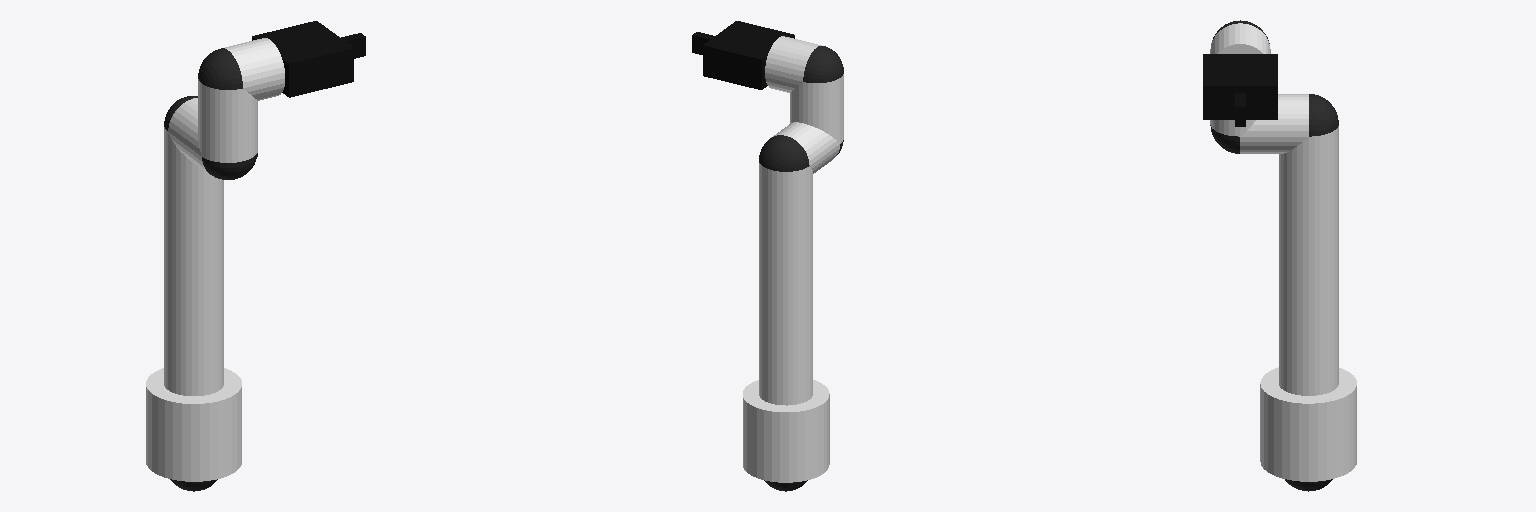
URDF robot description (mycobot_280_pi):
<?xml version="1.0"?>
<!-- GENERATED by scripts/generate_urdf.py from the DH table. Do not edit by hand. -->
<robot name="mycobot_280_pi">
  <material name="arm"><color rgba="0.92 0.92 0.92 1"/></material>
  <material name="joint"><color rgba="0.2 0.2 0.2 1"/></material>
  <material name="gripper"><color rgba="0.1 0.1 0.1 1"/></material>

  <link name="base_link">
    <visual><origin xyz="0 0 0.04"/><geometry><cylinder radius="0.045" length="0.08"/></geometry><material name="arm"/></visual>
    <collision><origin xyz="0 0 0.04"/><geometry><cylinder radius="0.045" length="0.08"/></geometry></collision>
  </link>
  <joint name="joint1" type="revolute">
    <parent link="base_link"/><child link="link1"/>
    <origin xyz="0 0 0" rpy="0 0 0"/>
    <axis xyz="0 0 1"/>
    <limit lower="-2.879793" upper="2.879793" velocity="2.8" effort="10"/>
  </joint>
  <link name="link1">
    <visual><geometry><sphere radius="0.028"/></geometry><material name="joint"/></visual>
    <collision><geometry><sphere radius="0.028"/></geometry></collision>
    <visual><origin xyz="0 0 0.069675" rpy="0 0 0"/><geometry><cylinder radius="0.028" length="0.13935"/></geometry><material name="arm"/></visual>
    <collision><origin xyz="0 0 0.069675" rpy="0 0 0"/><geometry><cylinder radius="0.028" length="0.13935"/></geometry></collision>
    <inertial><mass value="0.15"/><inertia ixx="0.000075" iyy="0.000075" izz="0.000075" ixy="0" ixz="0" iyz="0"/></inertial>
  </link>
  <joint name="joint2" type="revolute">
    <parent link="link1"/><child link="link2"/>
    <origin xyz="0 0 0.13935" rpy="1.570796 0 0"/>
    <axis xyz="0 0 1"/>
    <limit lower="-2.356194" upper="2.356194" velocity="2.8" effort="10"/>
  </joint>
  <link name="link2">
    <visual><geometry><sphere radius="0.028"/></geometry><material name="joint"/></visual>
    <collision><geometry><sphere radius="0.028"/></geometry></collision>
    <visual><origin xyz="0 0.0552 0" rpy="-1.570796 0 0"/><geometry><cylinder radius="0.028" length="0.1104"/></geometry><material name="arm"/></visual>
    <collision><origin xyz="0 0.0552 0" rpy="-1.570796 0 0"/><geometry><cylinder radius="0.028" length="0.1104"/></geometry></collision>
    <inertial><mass value="0.15"/><inertia ixx="0.000075" iyy="0.000075" izz="0.000075" ixy="0" ixz="0" iyz="0"/></inertial>
  </link>
  <joint name="joint3" type="revolute">
    <parent link="link2"/><child link="link3"/>
    <origin xyz="0 0.1104 0" rpy="0 0 -1.570796"/>
    <axis xyz="0 0 1"/>
    <limit lower="-2.617994" upper="2.617994" velocity="2.8" effort="10"/>
  </joint>
  <link name="link3">
    <visual><geometry><sphere radius="0.028"/></geometry><material name="joint"/></visual>
    <collision><geometry><sphere radius="0.028"/></geometry></collision>
    <visual><origin xyz="-0.048 0 0" rpy="0 -1.570796 0"/><geometry><cylinder radius="0.028" length="0.096"/></geometry><material name="arm"/></visual>
    <collision><origin xyz="-0.048 0 0" rpy="0 -1.570796 0"/><geometry><cylinder radius="0.028" length="0.096"/></geometry></collision>
    <inertial><mass value="0.15"/><inertia ixx="0.000075" iyy="0.000075" izz="0.000075" ixy="0" ixz="0" iyz="0"/></inertial>
  </link>
  <joint name="joint4" type="revolute">
    <parent link="link3"/><child link="link4"/>
    <origin xyz="-0.096 0 0" rpy="0 0 0"/>
    <axis xyz="0 0 1"/>
    <limit lower="-2.530727" upper="2.530727" velocity="2.8" effort="10"/>
  </joint>
  <link name="link4">
    <visual><geometry><sphere radius="0.028"/></geometry><material name="joint"/></visual>
    <collision><geometry><sphere radius="0.028"/></geometry></collision>
    <visual><origin xyz="0 0 0.0317" rpy="0 0 0"/><geometry><cylinder radius="0.028" length="0.0634"/></geometry><material name="arm"/></visual>
    <collision><origin xyz="0 0 0.0317" rpy="0 0 0"/><geometry><cylinder radius="0.028" length="0.0634"/></geometry></collision>
    <inertial><mass value="0.15"/><inertia ixx="0.000075" iyy="0.000075" izz="0.000075" ixy="0" ixz="0" iyz="0"/></inertial>
  </link>
  <joint name="joint5" type="revolute">
    <parent link="link4"/><child link="link5"/>
    <origin xyz="0 0 0.0634" rpy="1.570796 0 -1.570796"/>
    <axis xyz="0 0 1"/>
    <limit lower="-2.879793" upper="2.879793" velocity="2.8" effort="10"/>
  </joint>
  <link name="link5">
    <visual><geometry><sphere radius="0.028"/></geometry><material name="joint"/></visual>
    <collision><geometry><sphere radius="0.028"/></geometry></collision>
    <visual><origin xyz="0 0 0.037525" rpy="0 0 0"/><geometry><cylinder radius="0.028" length="0.07505"/></geometry><material name="arm"/></visual>
    <collision><origin xyz="0 0 0.037525" rpy="0 0 0"/><geometry><cylinder radius="0.028" length="0.07505"/></geometry></collision>
    <inertial><mass value="0.15"/><inertia ixx="0.000075" iyy="0.000075" izz="0.000075" ixy="0" ixz="0" iyz="0"/></inertial>
  </link>
  <joint name="joint6" type="revolute">
    <parent link="link5"/><child link="link6"/>
    <origin xyz="0 0 0.07505" rpy="-1.570796 0 1.570796"/>
    <axis xyz="0 0 1"/>
    <limit lower="-3.054326" upper="3.054326" velocity="2.8" effort="10"/>
  </joint>
  <link name="link6">
    <visual><geometry><sphere radius="0.028"/></geometry><material name="joint"/></visual>
    <collision><geometry><sphere radius="0.028"/></geometry></collision>
    <visual><origin xyz="0 0 0.0228" rpy="0 0 0"/><geometry><cylinder radius="0.028" length="0.0456"/></geometry><material name="arm"/></visual>
    <collision><origin xyz="0 0 0.0228" rpy="0 0 0"/><geometry><cylinder radius="0.028" length="0.0456"/></geometry></collision>
    <inertial><mass value="0.15"/><inertia ixx="0.000075" iyy="0.000075" izz="0.000075" ixy="0" ixz="0" iyz="0"/></inertial>
  </link>
  <joint name="link6_to_flange" type="fixed">
    <parent link="link6"/><child link="link6_flange"/>
    <origin xyz="0 0 0.0456" rpy="0 0 0"/>
  </joint>
  <link name="link6_flange"/>
  <joint name="flange_to_gripper" type="fixed">
    <parent link="link6_flange"/><child link="gripper_base"/>
    <origin xyz="0 0 0" rpy="0 0 0"/>
  </joint>
  <link name="gripper_base">
    <visual><origin xyz="0 0 0.035"/><geometry><box size="0.07 0.035 0.07"/></geometry><material name="gripper"/></visual>
    <collision><origin xyz="0 0 0.035"/><geometry><box size="0.07 0.035 0.07"/></geometry></collision>
    <inertial><mass value="0.1"/><inertia ixx="0.00005" iyy="0.00005" izz="0.00005" ixy="0" ixz="0" iyz="0"/></inertial>
  </link>
  <!-- gripper_joint = finger gap [m]; the driver maps the gripper value 0..100 onto 0..max gap -->
  <joint name="gripper_joint" type="prismatic">
    <parent link="gripper_base"/><child link="gripper_finger"/>
    <origin xyz="0 0 0.07"/>
    <axis xyz="1 0 0"/>
    <limit lower="0" upper="0.04" velocity="0.05" effort="5"/>
  </joint>
  <link name="gripper_finger">
    <visual><origin xyz="0 0 0.015"/><geometry><box size="0.01 0.02 0.03"/></geometry><material name="gripper"/></visual>
    <inertial><mass value="0.02"/><inertia ixx="0.00001" iyy="0.00001" izz="0.00001" ixy="0" ixz="0" iyz="0"/></inertial>
  </link>
  <joint name="gripper_to_tcp" type="fixed">
    <parent link="gripper_base"/><child link="gripper_tcp"/>
    <origin xyz="0 0 0.1"/>
  </joint>
  <link name="gripper_tcp"/>
</robot>

--- What the picture shows (computed from the rendered views, not written in the file) ---
The picture shows the robot from 3 angles, left to right: view 1: azimuth 30°, elevation 25°; view 2: azimuth 150°, elevation 25°; view 3: azimuth 270°, elevation 25°; orthographic projection.
Model mycobot_280_pi with 11 links and 10 joints (6 revolute, 1 prismatic, 3 fixed), rooted at base_link, posed every joint at zero.
Visible links, largest first — view 1: base_link, link2, link5, gripper_base, link3, link6, link1, link4; view 2: base_link, link2, link3, gripper_base, link6, link1, link4, link5; view 3: base_link, link2, link3, gripper_base, link1, link4, link6, link5.
Boxes of the visible links, bbox=[...] form: base_link: bbox=[146, 368, 241, 481]; link2: bbox=[164, 221, 223, 338]; link5: bbox=[198, 79, 257, 179]; gripper_base: bbox=[252, 21, 353, 97]; link3: bbox=[164, 127, 223, 230]; link6: bbox=[198, 38, 284, 100]; link1: bbox=[164, 328, 223, 491]; link4: bbox=[164, 96, 206, 171]; base_link: bbox=[743, 380, 829, 482]; link2: bbox=[759, 247, 812, 352]; link3: bbox=[759, 163, 812, 255]; gripper_base: bbox=[703, 21, 794, 89]; link6: bbox=[765, 36, 843, 92]; link1: bbox=[759, 344, 812, 491]; link4: bbox=[759, 122, 839, 173]; link5: bbox=[790, 74, 843, 154]; base_link: bbox=[1260, 367, 1356, 481]; link2: bbox=[1279, 219, 1338, 337]; link3: bbox=[1279, 126, 1338, 229]; gripper_base: bbox=[1203, 54, 1277, 119]; link1: bbox=[1279, 327, 1338, 491]; link4: bbox=[1240, 94, 1338, 153]; link6: bbox=[1210, 20, 1270, 53]; link5: bbox=[1210, 120, 1255, 153].
Bounding box of the posed robot: 0.1906 × 0.1434 × 0.4768 m (x, y, z).
Geometry: primitives only (box / cylinder / sphere), no mesh files.
